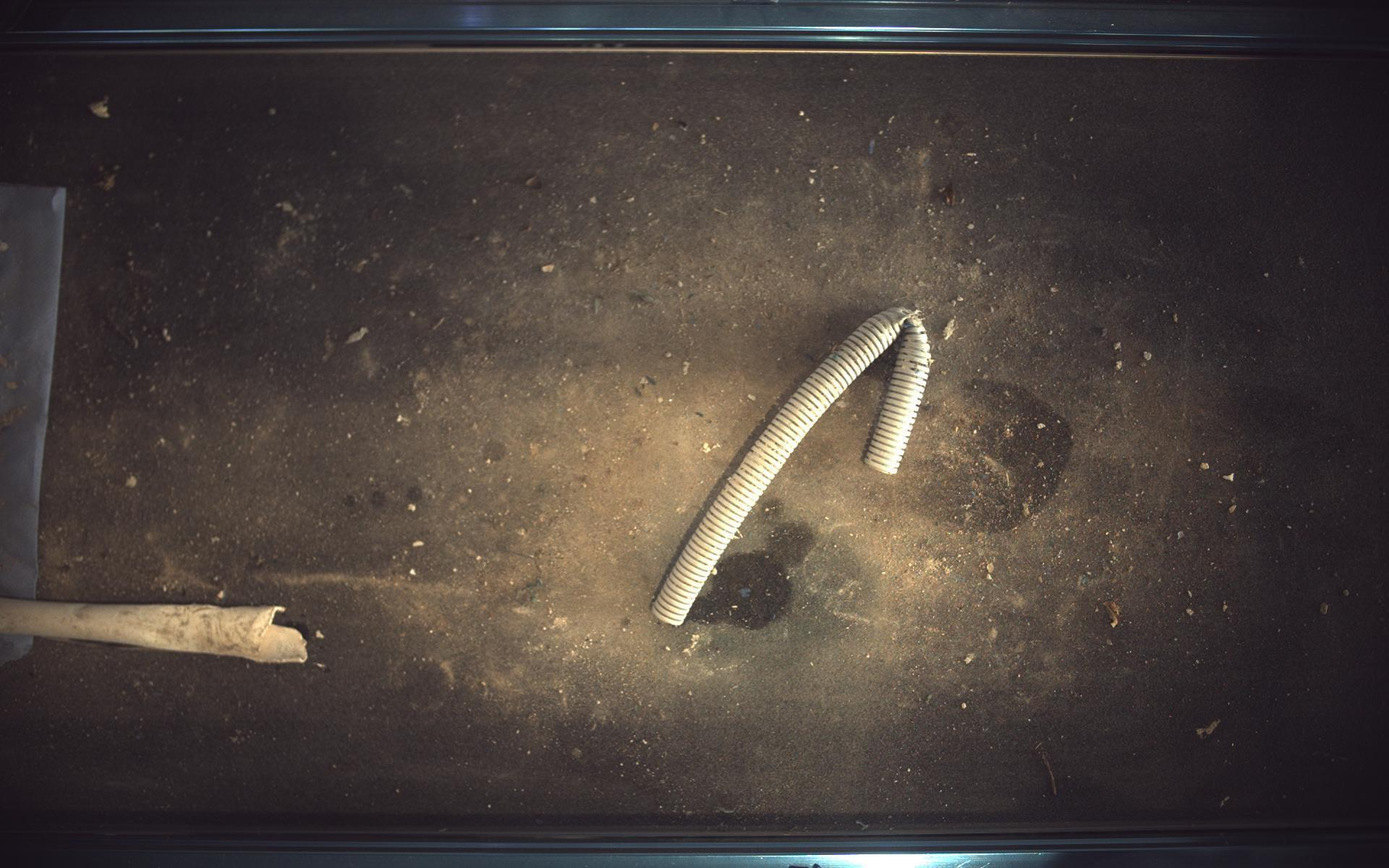pipes: (653, 307, 933, 626), (1, 599, 307, 664)
